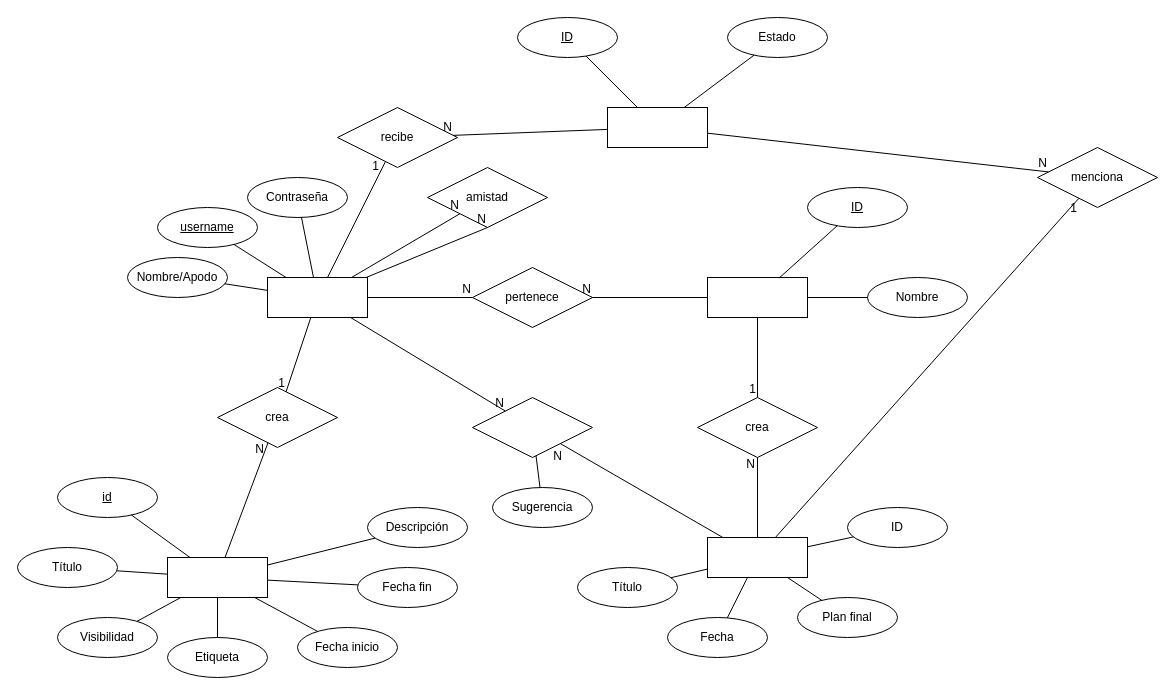
Some shapes in this 1175 by 695 pixel diagram are drawn without their labels. The shapes that lost their labels are listed below. From the top down, each one's centre as x and y in pixels, then its label:
(657,127): Notificación
(317,297): USUARIO
(757,297): GRUPO
(532,427): acude
(217,577): EVENTO PERSONAL
(757,557): EVENTO GRUPAL
